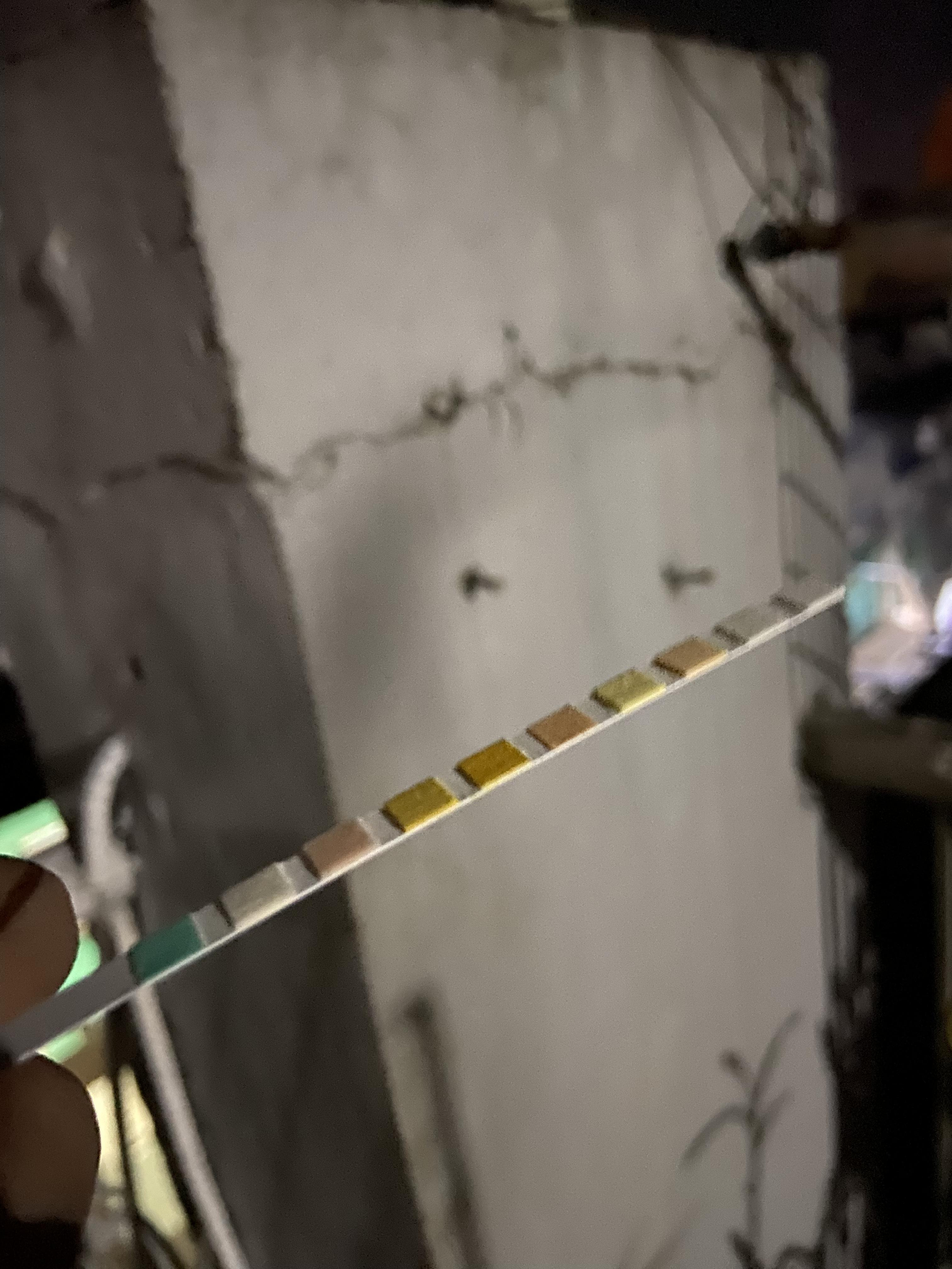Bilirubin: (243, 880, 284, 906)
Blood: (480, 753, 513, 773)
Glucose: (148, 931, 188, 958)
Ketone: (318, 836, 359, 858)
Leukocytes: (794, 581, 826, 599)
Nitrite: (735, 610, 772, 631)
Protein: (613, 675, 645, 699)
SpGravity: (402, 790, 441, 814)
Urobilinogen: (675, 645, 711, 664)
pH: (549, 715, 581, 734)
strip: (4, 577, 845, 1059)
